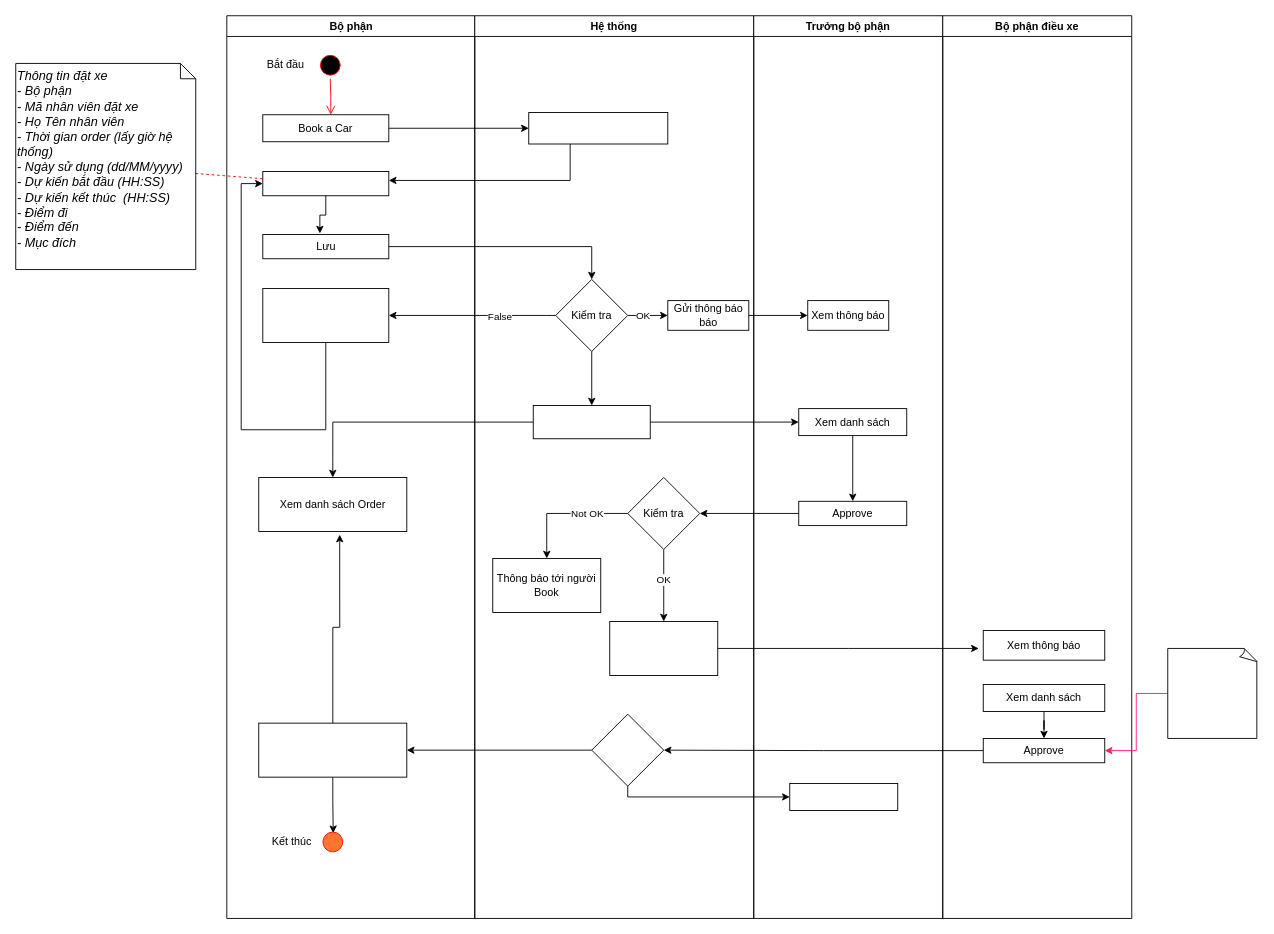
This 1274x934 diagram has some shape labels left out. Here are the shapes that lost their labels. From the top down, the centre of each, then its label:
(598,128): Hiển thị form nhập thông tin
(325,183): Nhập thông tin
(325,315): Thông báo lưu không thành công kiểm tra lại thông tin nhập
(591,422): Hiển thị danh sách
(663,648): Gửi thông báo tới người điều xe
(1212,693): Thông tin xe - Loại xe - Biển số - Người lái xe - Số điện thoại
(332,749): Nhận thông báo và xem thông tin
(627,749): Xác nhận
(843,796): Nhận thông báo Approve
